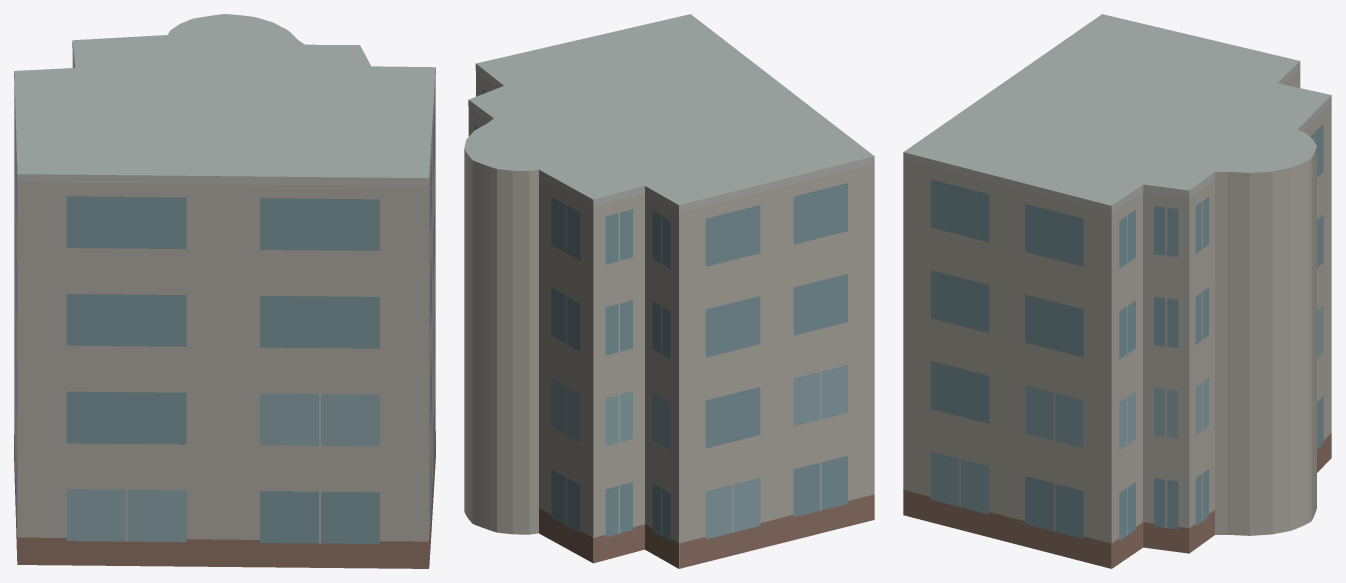
The model's file is survey-upis-32674852.glb.
3 views of the same model, side by side, from view 1: azimuth 30°, elevation 25°; view 2: azimuth 150°, elevation 25°; view 3: azimuth 270°, elevation 25° (orthographic). The views are drawn at different scales.
Visible parts, largest first — view 1: survey-upis-32674852.tmp; view 2: survey-upis-32674852.tmp; view 3: survey-upis-32674852.tmp.
Part boxes in pixels (x1,y1,x2,y2): survey-upis-32674852.tmp: (14,14,435,568); survey-upis-32674852.tmp: (464,14,874,568); survey-upis-32674852.tmp: (903,14,1331,568).
Size of the model in its own units: 13.84 by 12.2 by 13.06.
